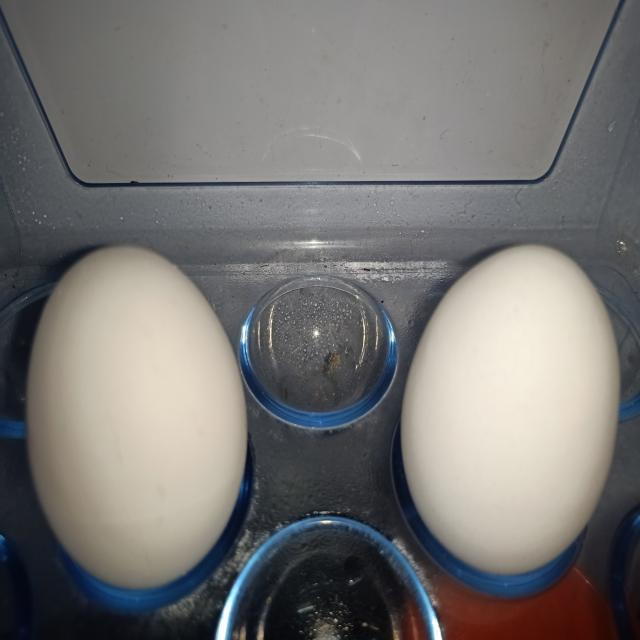Egg: (388, 206, 639, 604), (5, 229, 253, 619)
